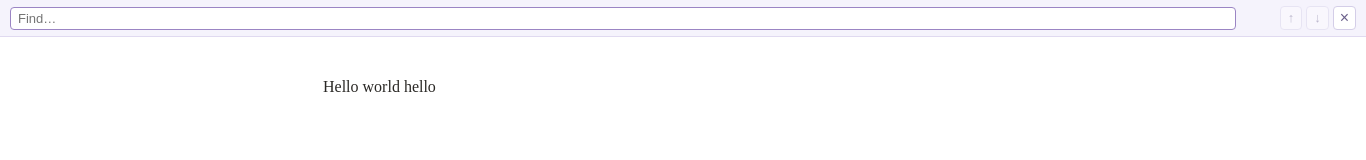
Test: FindBar — find mode › shows "current/total" count for matched occurrences
The width and height of the screenshot is (1366, 160).
Type "hello" into the field with placeholder "Find…" at {"x": 623, "y": 18}, box x1=10 y1=7 x2=1236 y2=30
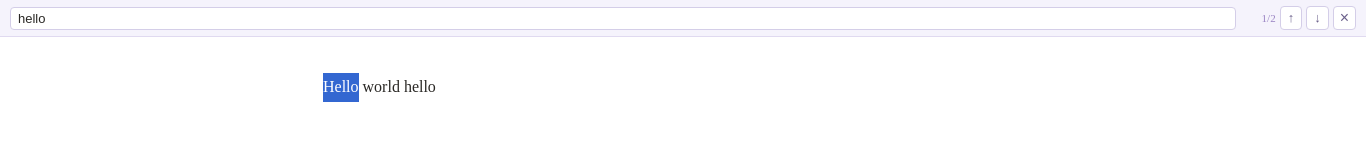
Result: the text "1/2" is shown at x1=1262 y1=12 x2=1276 y2=24
